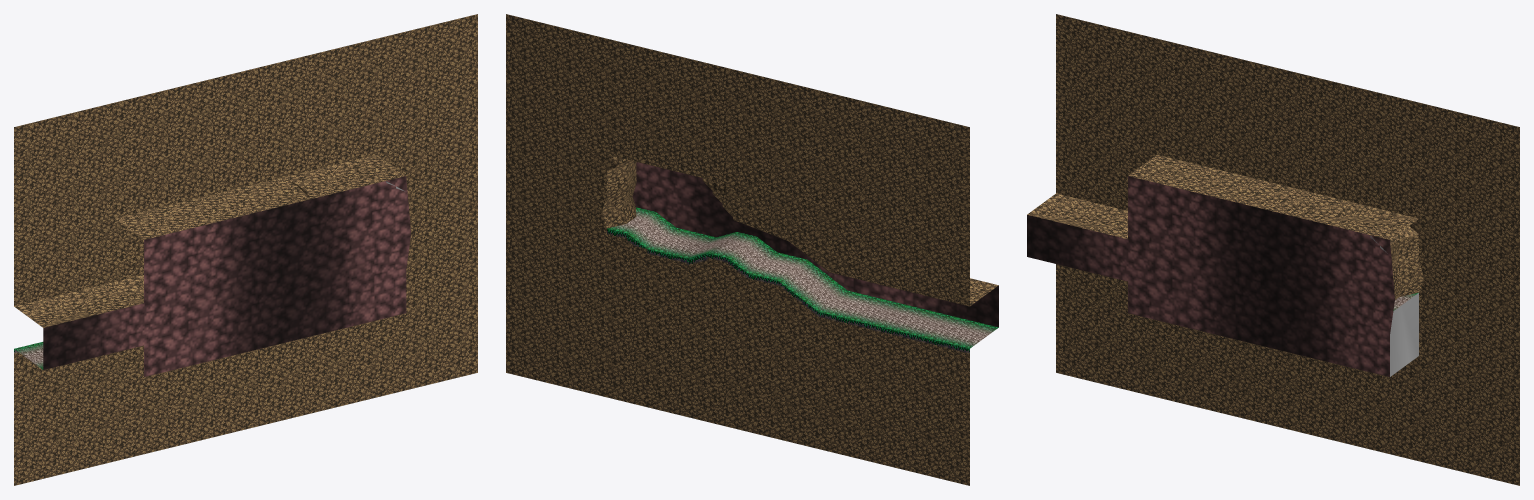
Rendered from Area2_Room14.fbx.
3 views of the same model, side by side, from view 1: azimuth 30°, elevation 25°; view 2: azimuth 150°, elevation 25°; view 3: azimuth 330°, elevation 25° (orthographic).
Parts seen in each view (by area): view 1: pCube75; view 2: pCube75; view 3: pCube75.
Part boxes in pixels (box(x1,y1,x2,y2)): pCube75: box(14, 14, 477, 485); pCube75: box(506, 14, 998, 485); pCube75: box(1027, 14, 1519, 485).
Bounding box in the file's own units: 46 × 34 × 5.
